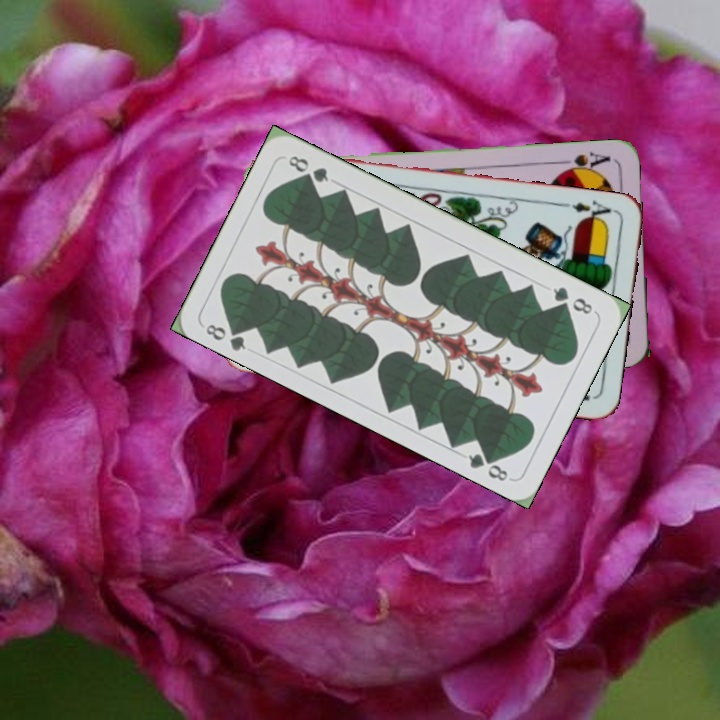EA: (568, 196, 613, 226)
G8: (201, 318, 249, 354), (548, 282, 595, 317)
SA: (554, 147, 613, 176)
